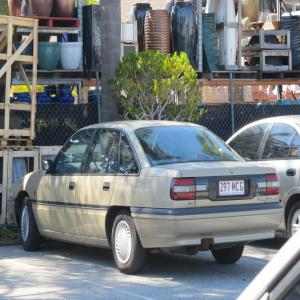Vehicle-registration-plate: (220, 181, 246, 198)
